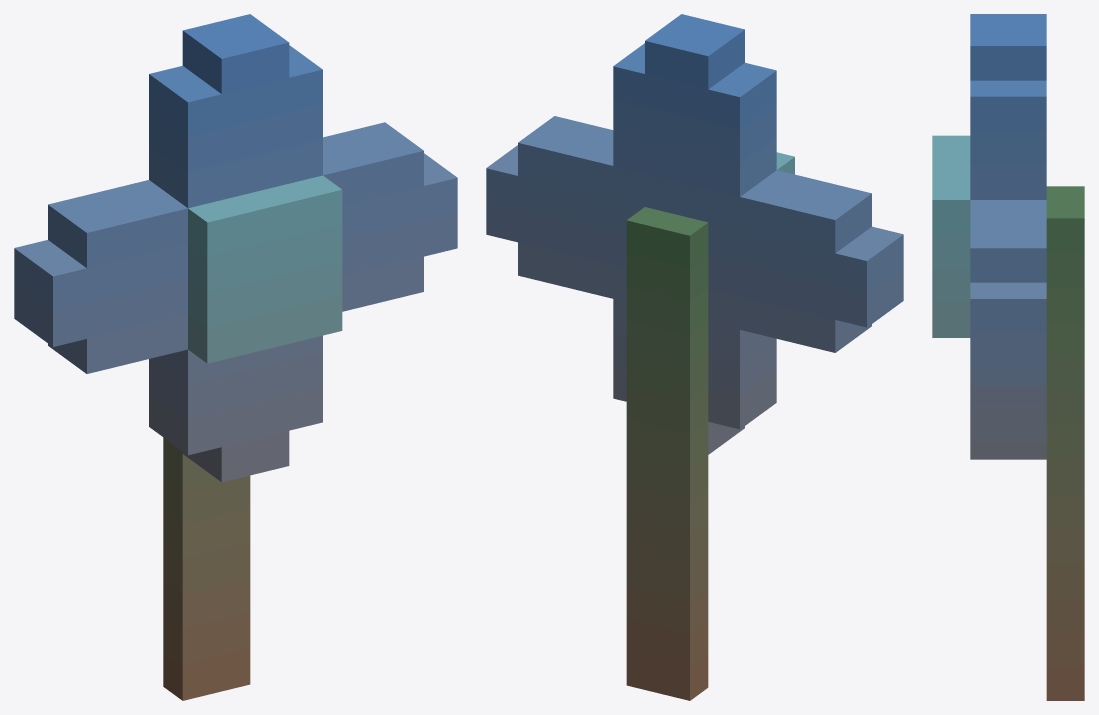
File: Accessories008.fbx
3 views of the same model, side by side, from view 1: azimuth 30°, elevation 25°; view 2: azimuth 150°, elevation 25°; view 3: azimuth 270°, elevation 25° (orthographic). The views are drawn at different scales.
Parts seen in each view (by area): view 1: Accessories008; view 2: Accessories008; view 3: Accessories008.
Boxes of the visible parts, bbox=[...] form: Accessories008: bbox=[14, 14, 457, 700]; Accessories008: bbox=[486, 14, 903, 700]; Accessories008: bbox=[932, 14, 1084, 700].
Size of the model in its own units: 12 by 19 by 4.
